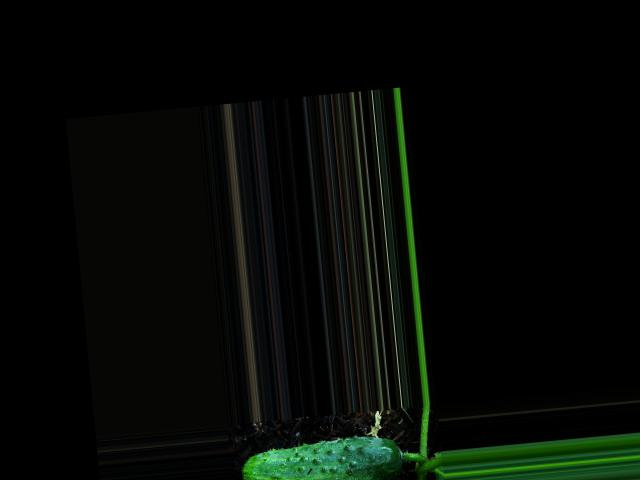cucumber: (238, 432, 405, 480)
